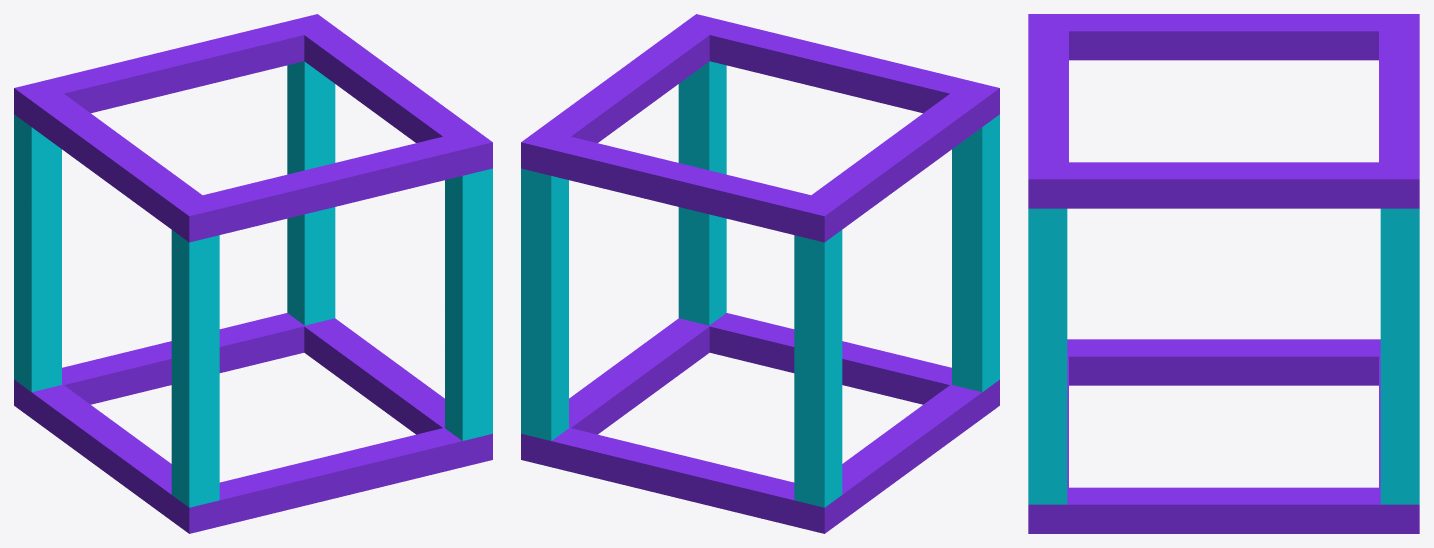
The model's file is POL0210022.fbx.
3 views of the same model, side by side, from view 1: azimuth 30°, elevation 25°; view 2: azimuth 150°, elevation 25°; view 3: azimuth 270°, elevation 25° (orthographic). The views are drawn at different scales.
Visible parts, largest first — view 1: smPOL0210022; view 2: smPOL0210022; view 3: smPOL0210022.
Part boxes in pixels (bbox=[...]): smPOL0210022: bbox=[14, 14, 492, 533]; smPOL0210022: bbox=[521, 14, 999, 533]; smPOL0210022: bbox=[1028, 14, 1419, 533].
Bounding box in the file's own units: 161 × 161 × 161.
Materials: 1 (1 with a texture image).
